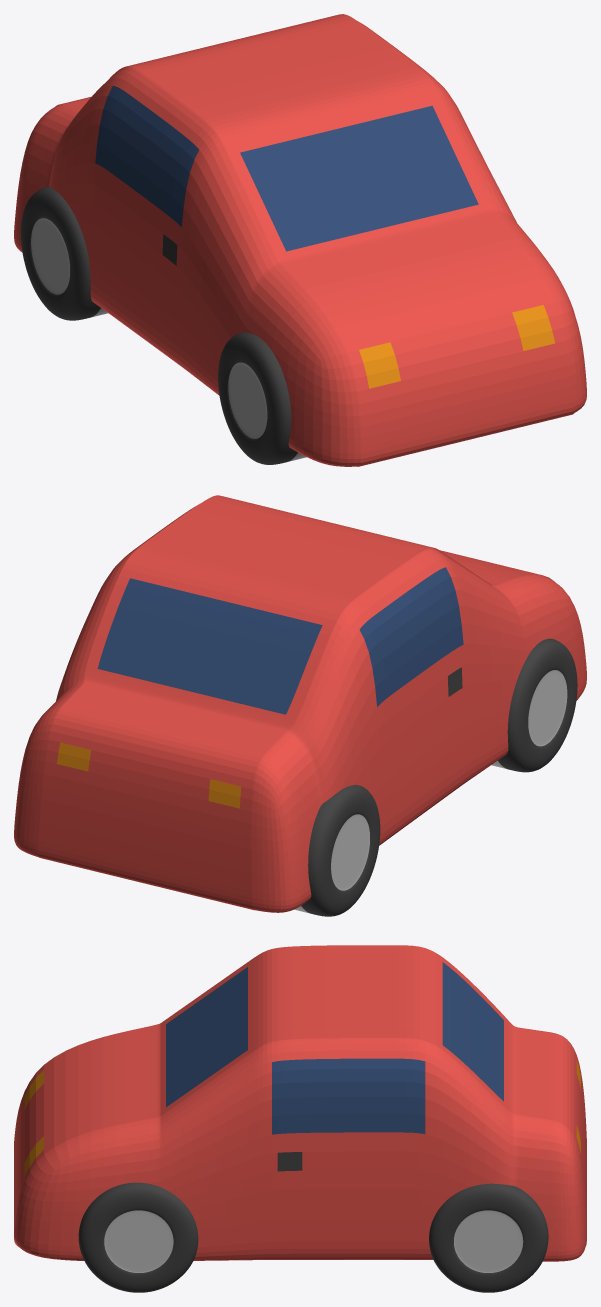
File: Sedan.fbx
The picture shows the model from 3 angles, top to bottom: view 1: azimuth 30°, elevation 25°; view 2: azimuth 150°, elevation 25°; view 3: azimuth 270°, elevation 25°; orthographic projection. The views are drawn at different scales.
Visible parts, largest first — view 1: Sedan; view 2: Sedan; view 3: Sedan.
Part boxes in pixels (x1=…): Sedan: x1=14, y1=14, x2=586, y2=466; Sedan: x1=14, y1=495, x2=586, y2=916; Sedan: x1=14, y1=945, x2=586, y2=1292.
Bounding box in the file's own units: 417 × 358 × 772.
